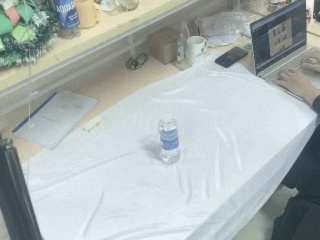bottle: (158, 115, 181, 165), (52, 1, 81, 39)
box: (148, 27, 182, 65)
cup: (74, 1, 103, 29), (185, 36, 208, 66)
phone: (214, 46, 249, 68)
